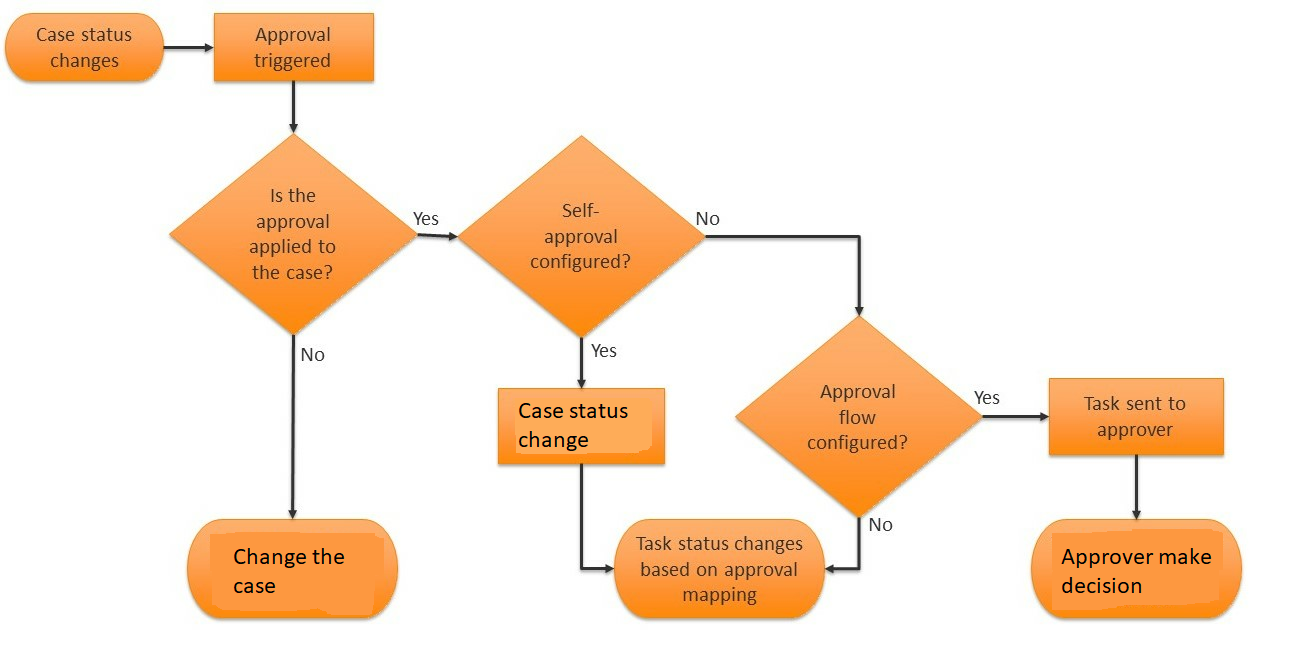arrow: (699, 230, 869, 323), (575, 460, 616, 575), (284, 329, 301, 520), (822, 516, 868, 580), (978, 406, 1050, 425), (1125, 450, 1142, 522), (162, 38, 214, 57), (416, 226, 458, 246), (286, 79, 300, 137), (572, 333, 586, 387)
decision: (159, 123, 430, 342), (726, 310, 989, 525), (451, 128, 709, 346)
process: (1042, 376, 1227, 458), (493, 385, 670, 469), (210, 9, 380, 87)
terminator: (610, 513, 831, 624), (181, 516, 402, 625), (1026, 514, 1245, 623), (2, 10, 171, 87)
text: (630, 530, 805, 606), (247, 185, 336, 285), (525, 198, 632, 274), (802, 382, 914, 453), (1054, 543, 1213, 593), (510, 396, 634, 453), (226, 542, 350, 595), (1078, 392, 1190, 442), (33, 25, 140, 72), (248, 23, 335, 72), (971, 384, 1006, 409), (412, 205, 440, 233), (586, 339, 618, 362), (294, 343, 325, 365), (694, 207, 721, 232), (866, 515, 892, 537)
